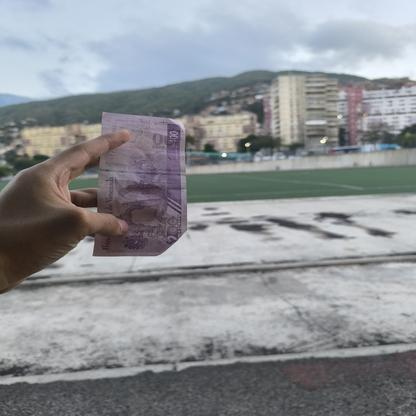one_hundred-back-vef: (92, 111, 188, 257)
